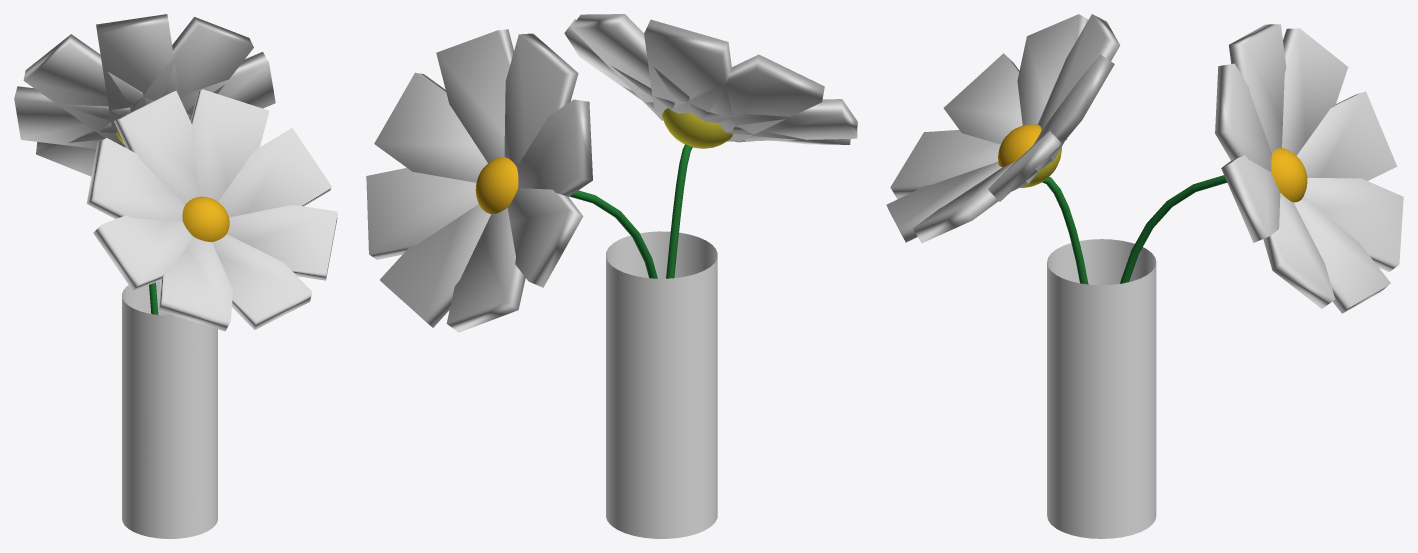
Rendered from flower.glb.
The picture shows the model from 3 angles, left to right: view 1: azimuth 30°, elevation 25°; view 2: azimuth 150°, elevation 25°; view 3: azimuth 270°, elevation 25°; orthographic projection. The views are drawn at different scales.
Visible parts, largest first — view 1: 円柱, Cube.007, Cube.008, Cube.006, Cube, Cube.014, Cube.013, Cube.005, Cube.001, Cube.015, Cube.004, Cube.003 (+4 smaller); view 2: 円柱, Cube.016, Cube.017, Cube.015, Cube.009, Cube.014, Cube, Cube.010, Cube.001, Cube.013, Cube.012, Cube.008 (+7 smaller); view 3: 円柱, Cube.012, Cube.010, Cube.013, Cube.009, Cube.003, Cube.014, Cube.004, Cube.017, Cube.001, Cube.015, Cube.016 (+9 smaller).
Boxes of the visible parts, left/top/right/bottom form: 円柱: left=122, top=281, right=217, bottom=538; Cube.007: left=218, top=128, right=331, bottom=217; Cube.008: left=190, top=89, right=269, bottom=201; Cube.006: left=227, top=204, right=337, bottom=280; Cube: left=114, top=90, right=199, bottom=204; Cube.014: left=96, top=14, right=180, bottom=129; Cube.013: left=23, top=34, right=152, bottom=143; Cube.005: left=212, top=234, right=311, bottom=329; Cube.001: left=86, top=138, right=184, bottom=221; Cube.015: left=130, top=17, right=253, bottom=115; Cube.004: left=158, top=237, right=232, bottom=331; Cube.003: left=93, top=215, right=193, bottom=290; 円柱: left=606, top=231, right=717, bottom=538; Cube.016: left=374, top=72, right=487, bottom=182; Cube.017: left=366, top=168, right=478, bottom=259; Cube.015: left=436, top=29, right=513, bottom=162; Cube.009: left=380, top=204, right=490, bottom=327; Cube.014: left=504, top=33, right=578, bottom=166; Cube: left=644, top=19, right=734, bottom=131; Cube.010: left=446, top=208, right=525, bottom=332; Cube.001: left=671, top=54, right=824, bottom=141; Cube.013: left=517, top=99, right=592, bottom=196; Cube.012: left=507, top=188, right=583, bottom=287; Cube.008: left=571, top=14, right=706, bottom=120; 円柱: left=1047, top=239, right=1156, bottom=538; Cube.012: left=1297, top=91, right=1397, bottom=180; Cube.010: left=1303, top=178, right=1403, bottom=271; Cube.013: left=1282, top=28, right=1348, bottom=155; Cube.009: left=1293, top=197, right=1390, bottom=313; Cube.003: left=943, top=53, right=1022, bottom=144; Cube.014: left=1229, top=24, right=1286, bottom=153; Cube.004: left=890, top=130, right=1000, bottom=199; Cube.017: left=1263, top=193, right=1335, bottom=308; Cube.001: left=1017, top=14, right=1088, bottom=139; Cube.015: left=1215, top=63, right=1271, bottom=172; Cube.016: left=1221, top=155, right=1280, bottom=242.
Size of the model in its own units: 5.5 by 8.08 by 7.51.
